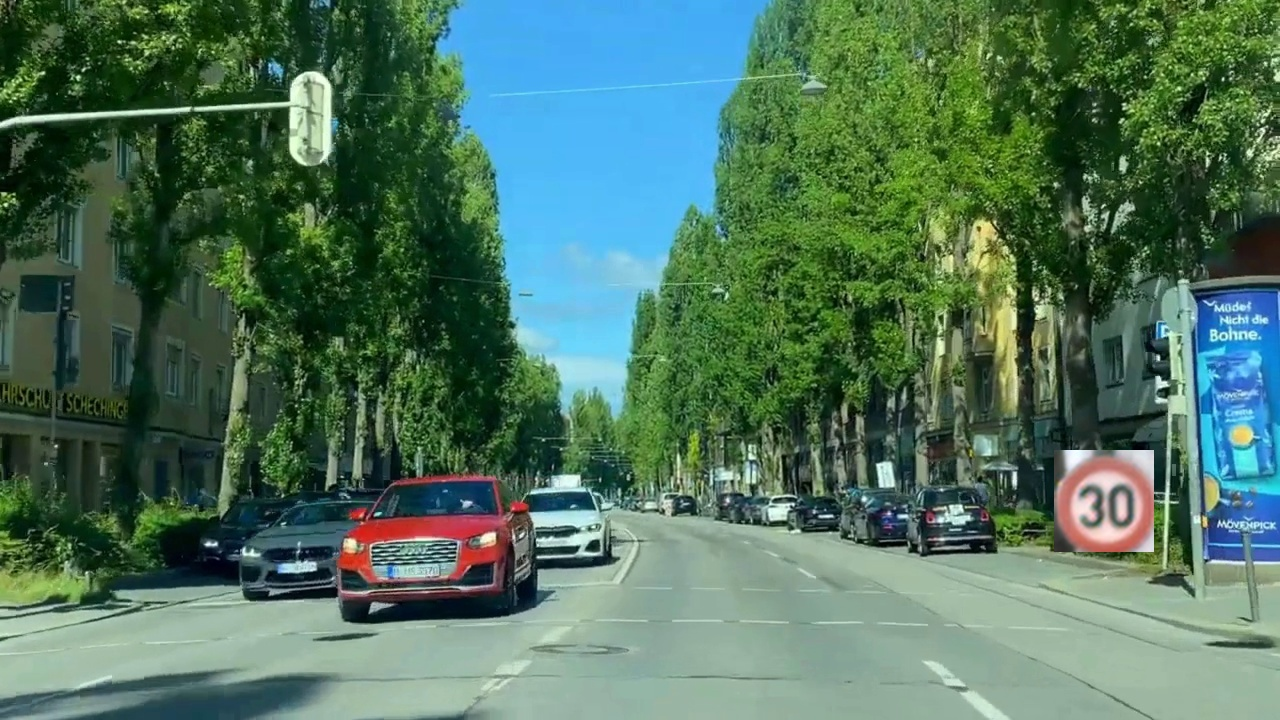Speed 30: (1054, 450, 1154, 552)
